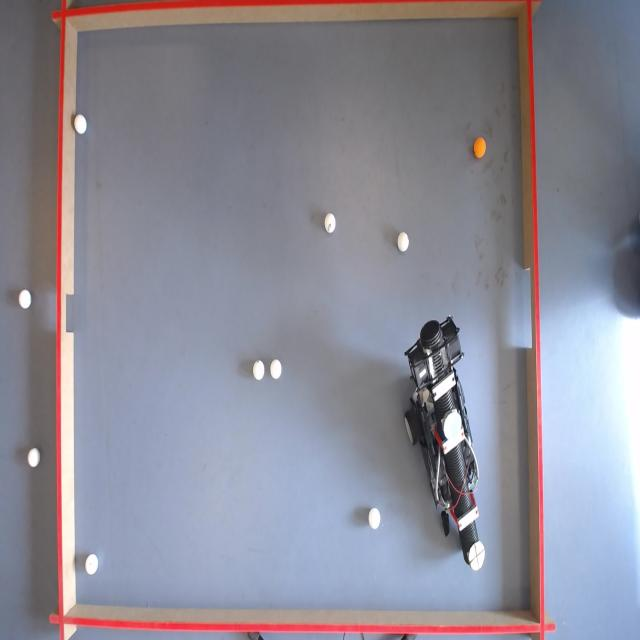orange: (474, 138, 489, 158)
robot: (406, 312, 484, 568)
robot-front: (468, 543, 485, 572)
robot-rear: (446, 412, 464, 442)
white: (74, 112, 87, 134), (28, 449, 42, 469), (20, 289, 33, 310), (368, 509, 380, 531), (87, 556, 100, 576), (396, 233, 409, 253), (271, 359, 284, 379), (252, 360, 264, 380), (324, 212, 335, 232)
